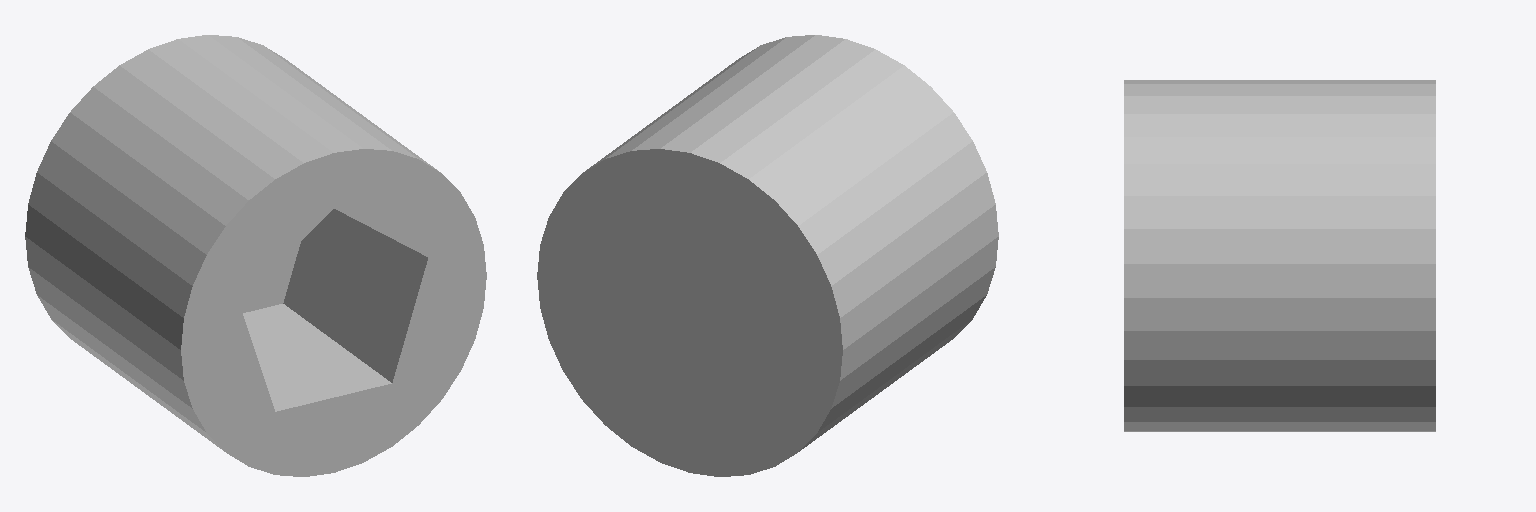
Rendered from pentagon_short.obj.
The picture shows the model from 3 angles: view 1: azimuth 30°, elevation 25°; view 2: azimuth 150°, elevation 25°; view 3: azimuth 270°, elevation 25°; orthographic projection.
Parts seen in each view (by area): view 1: slot_pentagon_short; view 2: slot_pentagon_short; view 3: slot_pentagon_short.
Boxes of the visible parts, x1,y1,x2,y2 form: slot_pentagon_short: [25, 35, 486, 476]; slot_pentagon_short: [537, 35, 998, 476]; slot_pentagon_short: [1124, 80, 1435, 431].
Bounding box in the file's own units: 0.034 × 0.034 × 0.03.